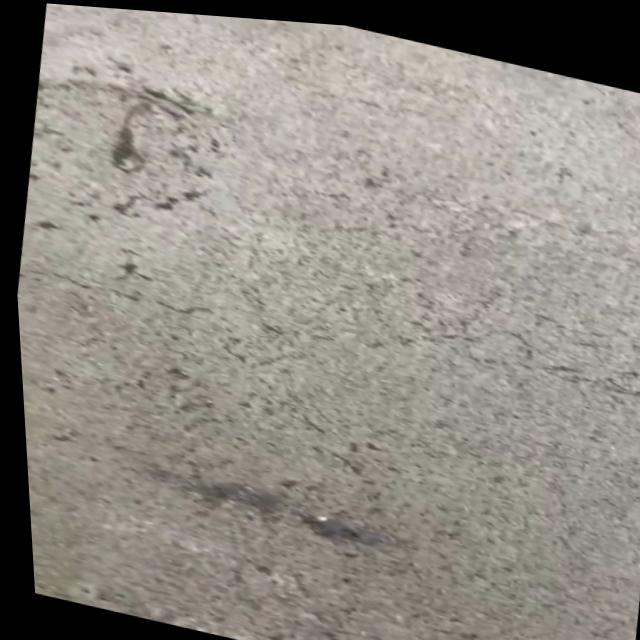Crack: (33, 63, 223, 240)
